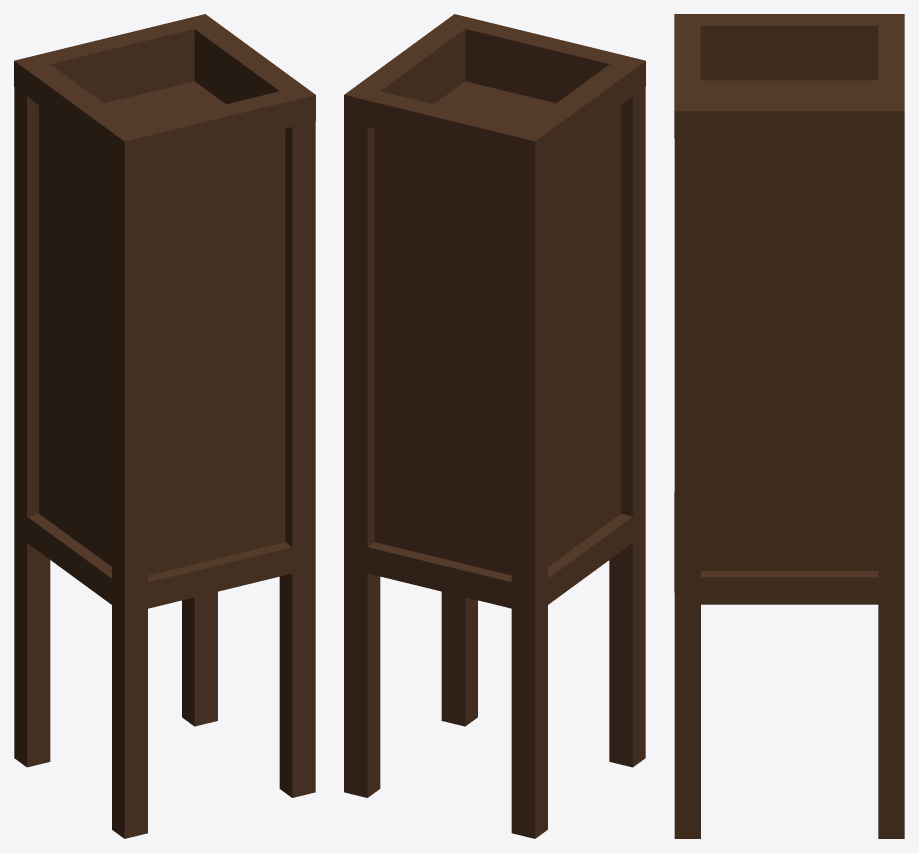
File: 2024_SXR_mdl_LanternPodium_v1.fbx
The picture shows the model from 3 angles, left to right: view 1: azimuth 30°, elevation 25°; view 2: azimuth 150°, elevation 25°; view 3: azimuth 270°, elevation 25°; orthographic projection. The views are drawn at different scales.
Visible parts, largest first — view 1: Cube; view 2: Cube; view 3: Cube.
Part boxes in pixels (left/top/right/bottom): Cube: left=14, top=14, right=315, bottom=838; Cube: left=344, top=14, right=645, bottom=838; Cube: left=674, top=14, right=904, bottom=838.
Bounding box in the file's own units: 27.37 × 95.39 × 27.37.
